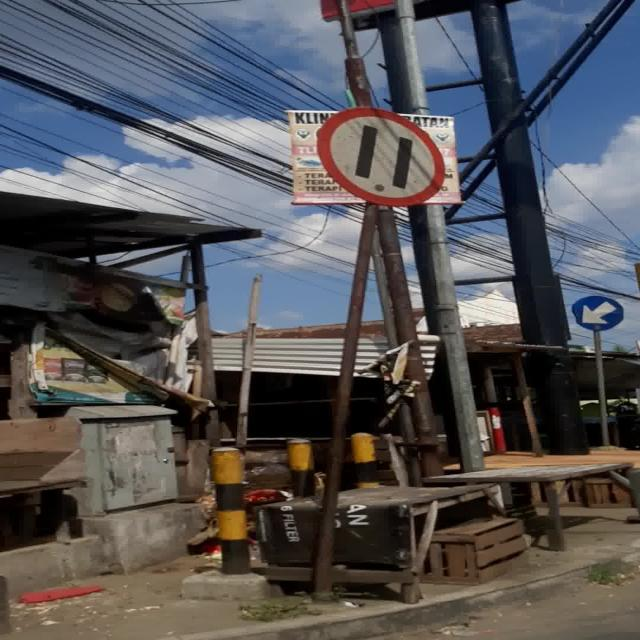Larangan Muatan - 10 ton: (318, 106, 444, 206)
